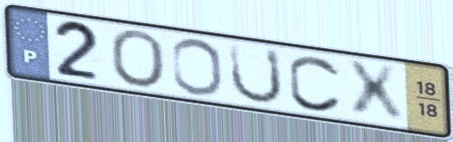2: (52, 16, 108, 88)
C: (287, 53, 345, 115)
O: (107, 28, 167, 90), (169, 36, 226, 99)
U: (227, 41, 286, 106)
X: (342, 58, 408, 125)
